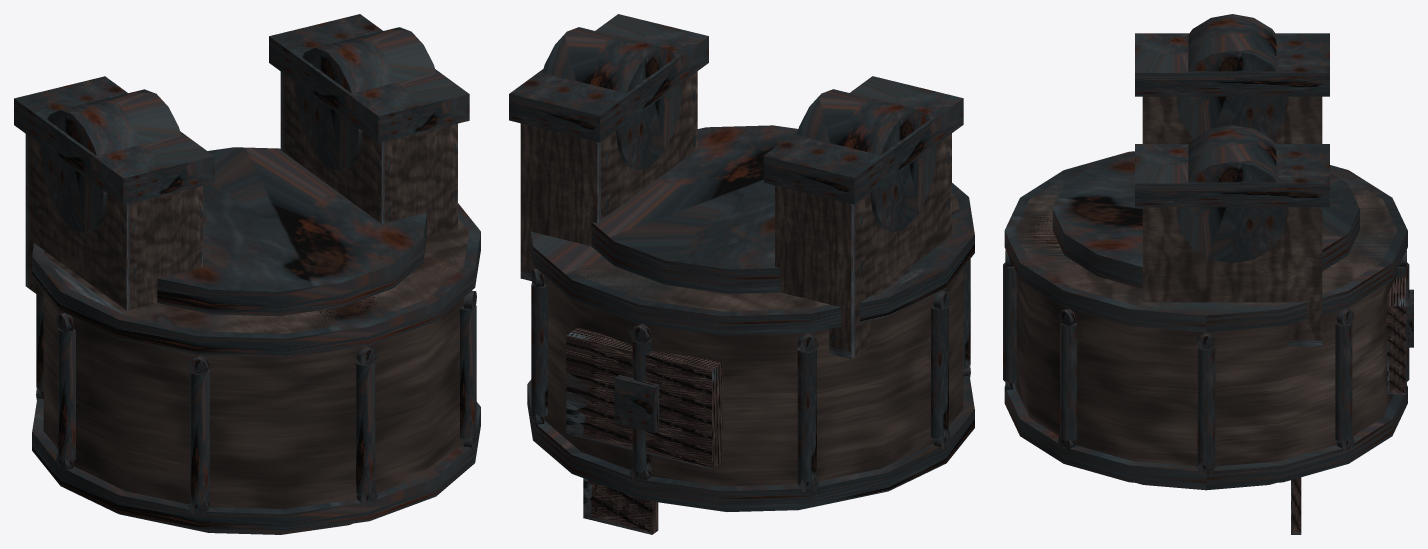
Rendered from EldritchCannon.obj.
The picture shows the model from 3 angles, left to right: view 1: azimuth 30°, elevation 25°; view 2: azimuth 150°, elevation 25°; view 3: azimuth 270°, elevation 25°; orthographic projection. The views are drawn at different scales.
Parts seen in each view (by area): view 1: EldritchCannon; view 2: EldritchCannon; view 3: EldritchCannon.
Part boxes in pixels (x1,y1,x2,y2): EldritchCannon: (14, 14, 480, 534); EldritchCannon: (509, 14, 974, 534); EldritchCannon: (1003, 14, 1413, 534).
Size of the model in its own units: 0.542 by 0.585 by 0.548.
